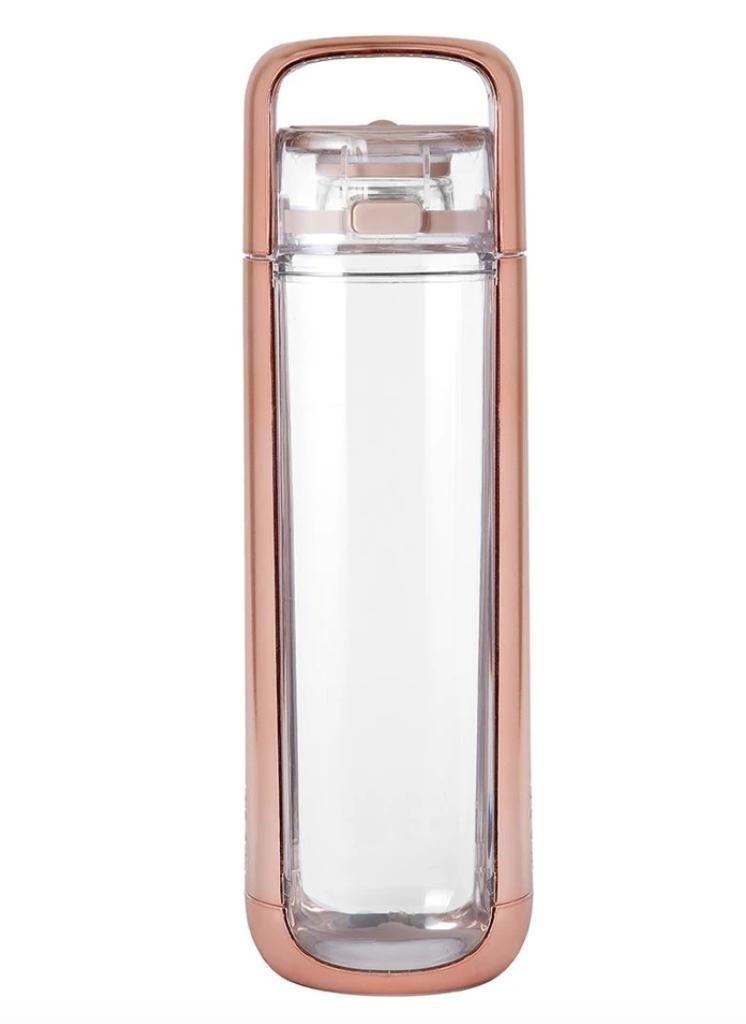gym bottle: (236, 24, 534, 1000)
